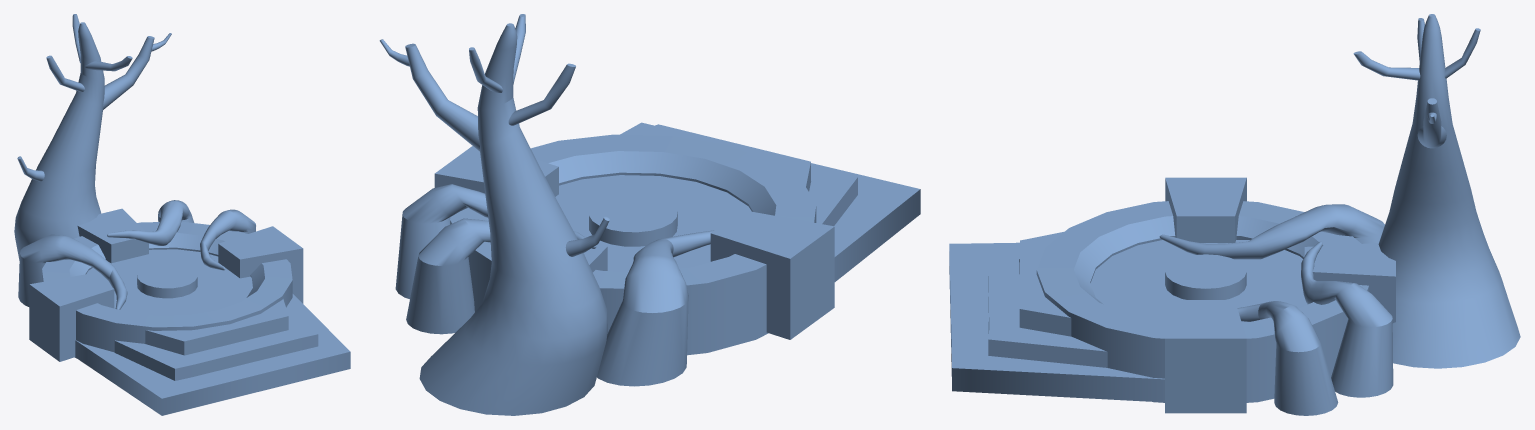
File: SM_IceStand_JG.fbx
3 views of the same model, side by side, from view 1: azimuth 30°, elevation 25°; view 2: azimuth 150°, elevation 25°; view 3: azimuth 270°, elevation 25° (orthographic). The views are drawn at different scales.
Visible parts, largest first — view 1: Frame_Stand2; view 2: Frame_Stand2; view 3: Frame_Stand2.
Boxes of the visible parts, box(x1,y1,x2,y2) form: Frame_Stand2: box(14, 14, 350, 415); Frame_Stand2: box(379, 14, 920, 415); Frame_Stand2: box(949, 14, 1520, 415).
Bounding box in the file's own units: 1.6 × 1.5 × 2.41.
